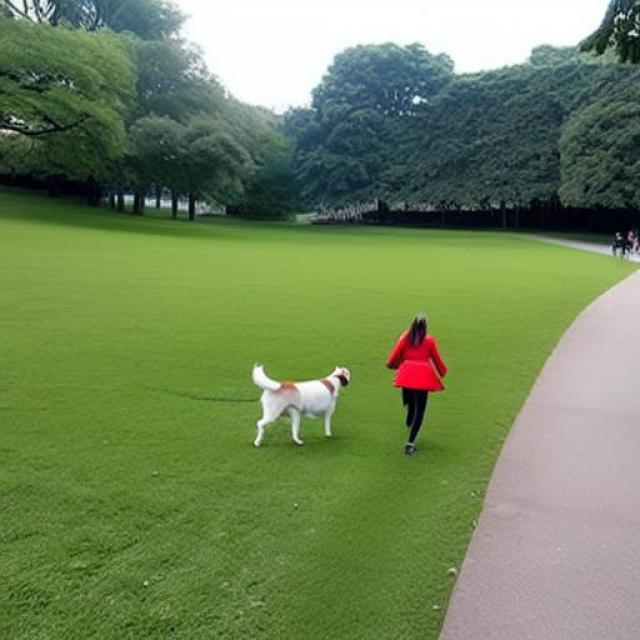Unleashed_Dog: (253, 364, 431, 447)
